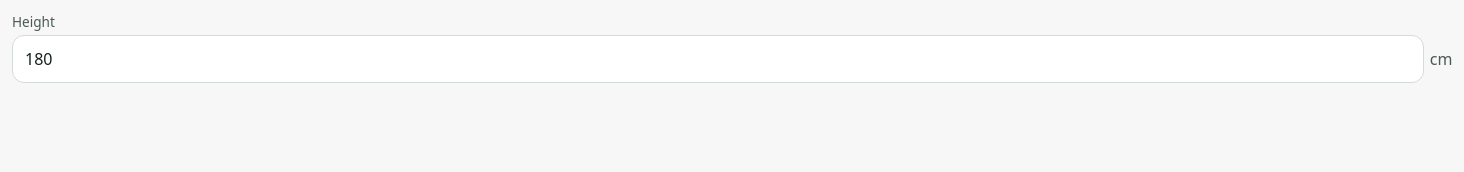
Scenario: NumberField (autosave mode) › typing "1" → "17" → "175" never rejects a keystroke and saves 175 once, on blur
The image size is (1464, 172).
Later steps or results of the test are not shown.
Replace the text in the field labelled "Height" with "1" at coordinates (718, 59), box [12,35,1424,83]
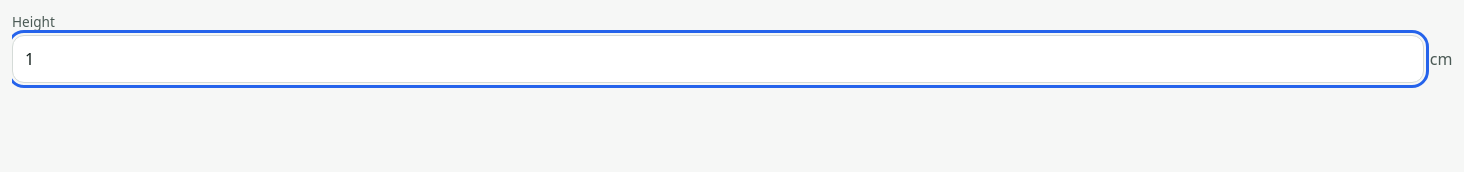
Type "7" into the field labelled "Height".
click(718, 59); type("7")  # box [12,35,1424,83]
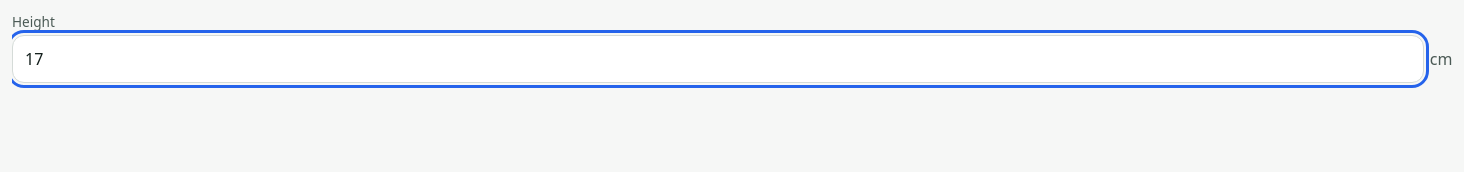
expect the field labelled "Height" holds "17": met
Type "5" into the field labelled "Height".
click(718, 59); type("5")  # box [12,35,1424,83]
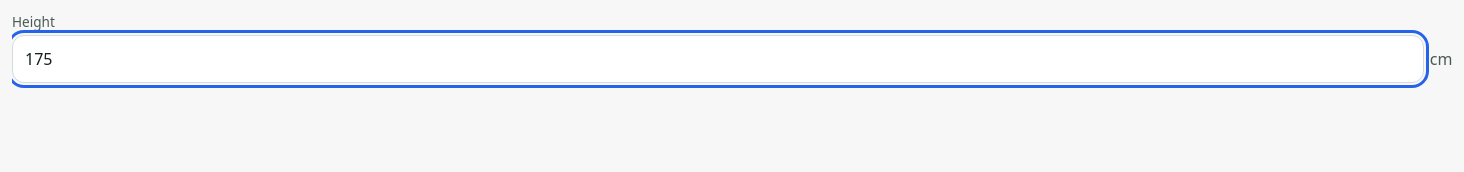
expect the field labelled "Height" holds "175": met, box [12,35,1424,83]
